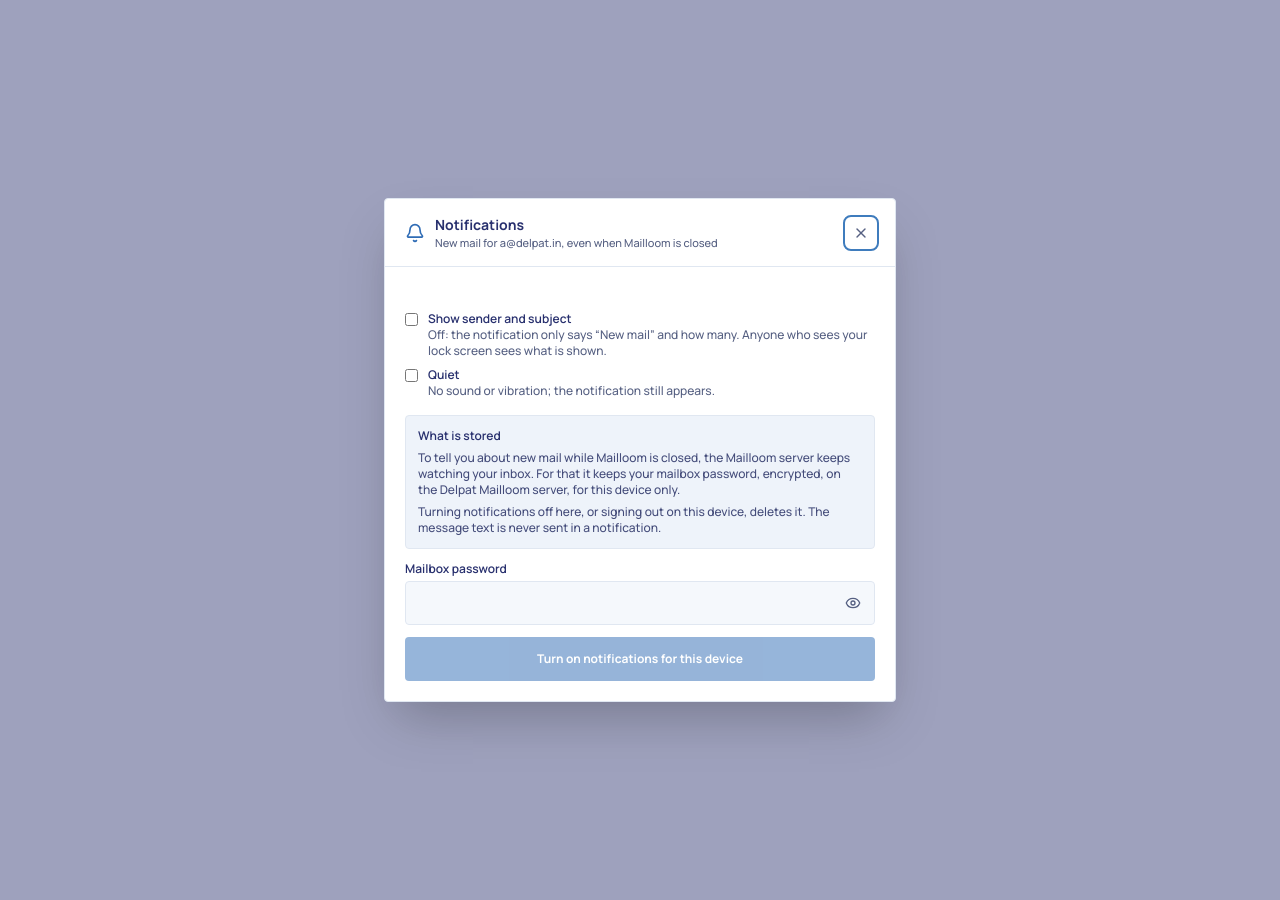
Test: NotificationsPanel › explains what is stored and turns on with the password, details off by default
Expected: the dialog "Notifications" is shown, [384,198,896,702]
Expected: the text "What is stored" is shown, [418,428,501,444]
Type "secret-pw" into the password field labelled "Mailbox password". click: (640, 604)
box: [405,582,875,626]
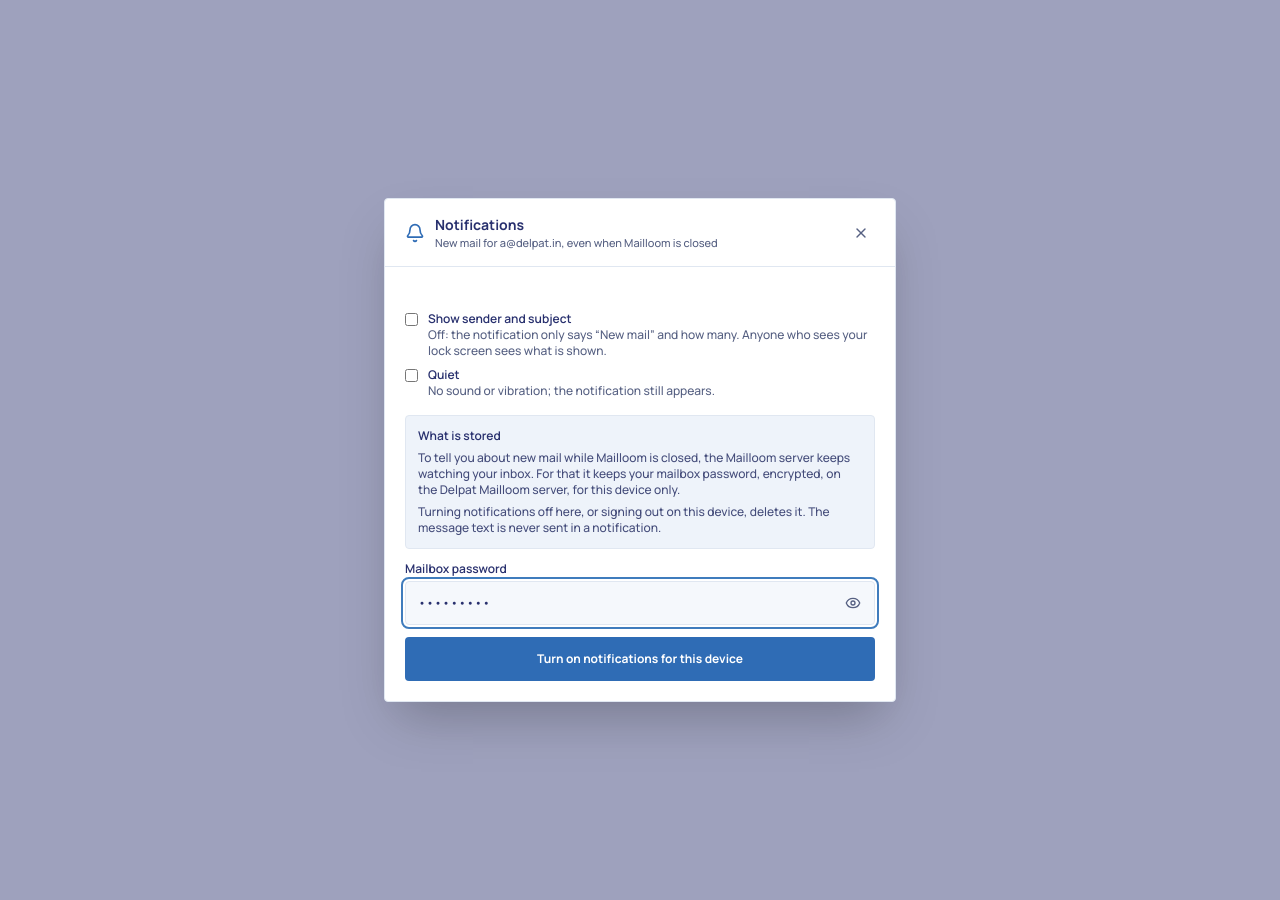
Click the button "Turn on notifications for this device". click: click(640, 660)
box: [405,638,875,682]
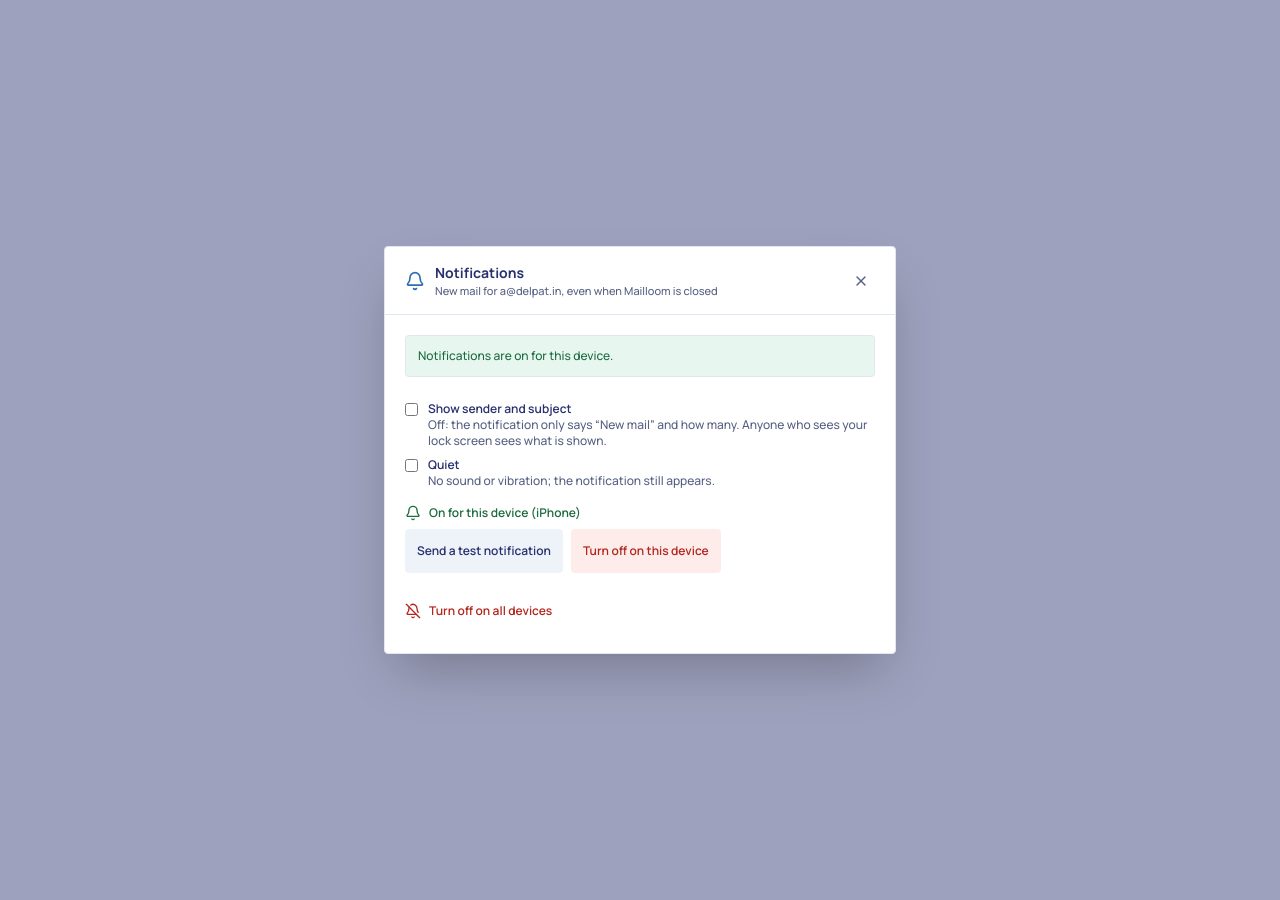
Expected: the text "On for this device (iPhone)" is shown, [405,504,581,522]
